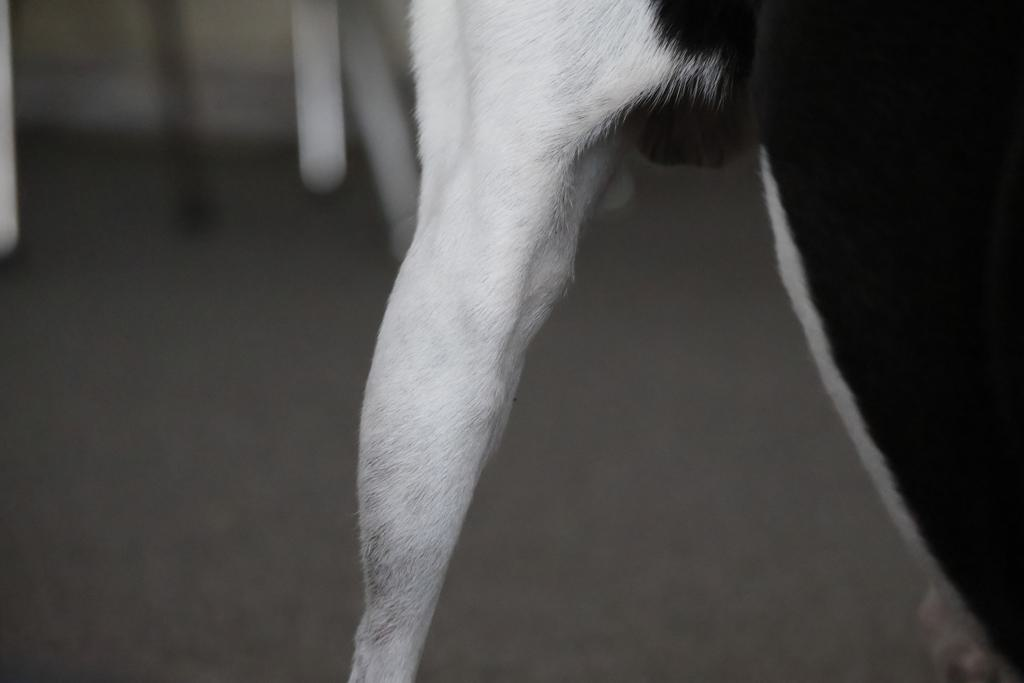Dog: (335, 0, 1024, 683)
